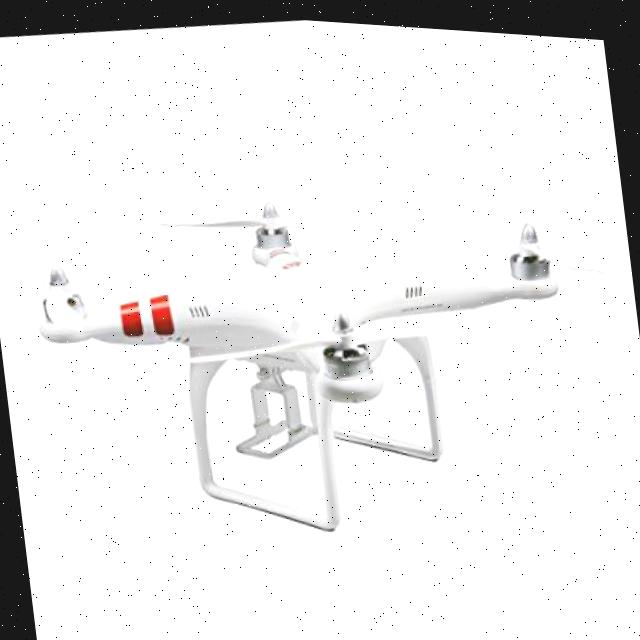drone: (11, 123, 640, 589)
